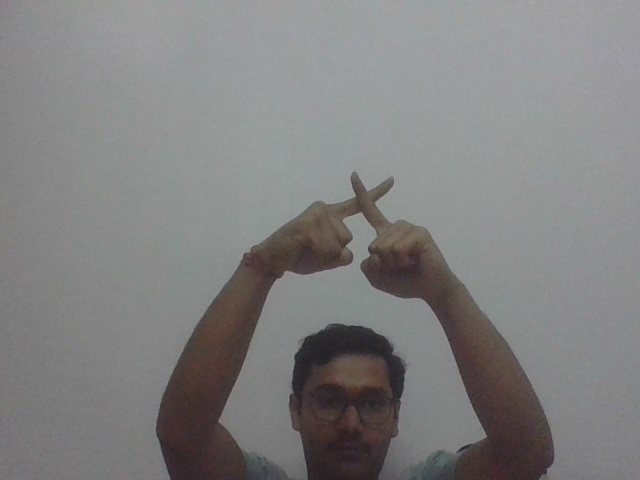X: (276, 168, 439, 296)
